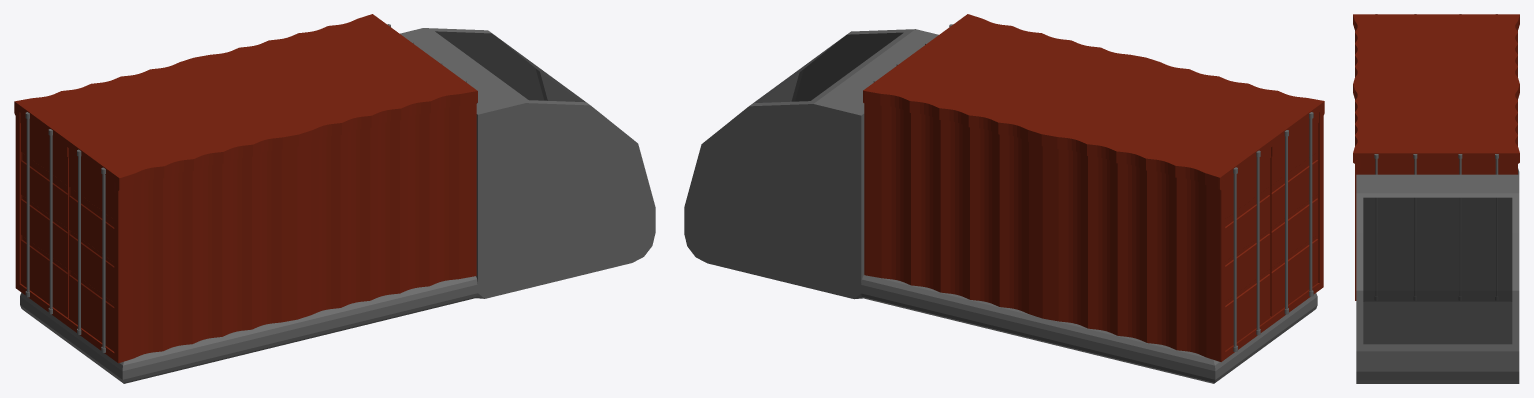
File: Truck.fbx
3 views of the same model, side by side, from view 1: azimuth 30°, elevation 25°; view 2: azimuth 150°, elevation 25°; view 3: azimuth 270°, elevation 25° (orthographic). The views are drawn at different scales.
Parts seen in each view (by area): view 1: Cube.001, Cube.010, Cube.006, Cube.007, Cube.009, Cube.008; view 2: Cube.001, Cube.010, Cube.007, Cube.009, Cube.006, Cube.008; view 3: Cube.010, Cube.001, Cube.002, Cube.004, Cube.005, Cube.003.
Part boxes in pixels (x1,y1,x2,y2): Cube.001: (14,14,477,363); Cube.010: (20,28,655,383); Cube.006: (25,112,29,297); Cube.007: (48,129,52,314); Cube.009: (101,167,105,352); Cube.008: (77,149,81,334); Cube.001: (863,14,1324,361); Cube.010: (684,29,1317,383); Cube.007: (1256,150,1260,335); Cube.009: (1309,112,1313,296); Cube.006: (1233,167,1237,351); Cube.008: (1284,130,1288,314); Cube.010: (1356,168,1519,383); Cube.001: (1353,14,1519,300); Cube.002: (1495,154,1498,300); Cube.004: (1413,154,1417,300); Cube.005: (1374,154,1378,300); Cube.003: (1458,154,1462,300).
Size of the model in its own units: 609 by 228 by 205.
